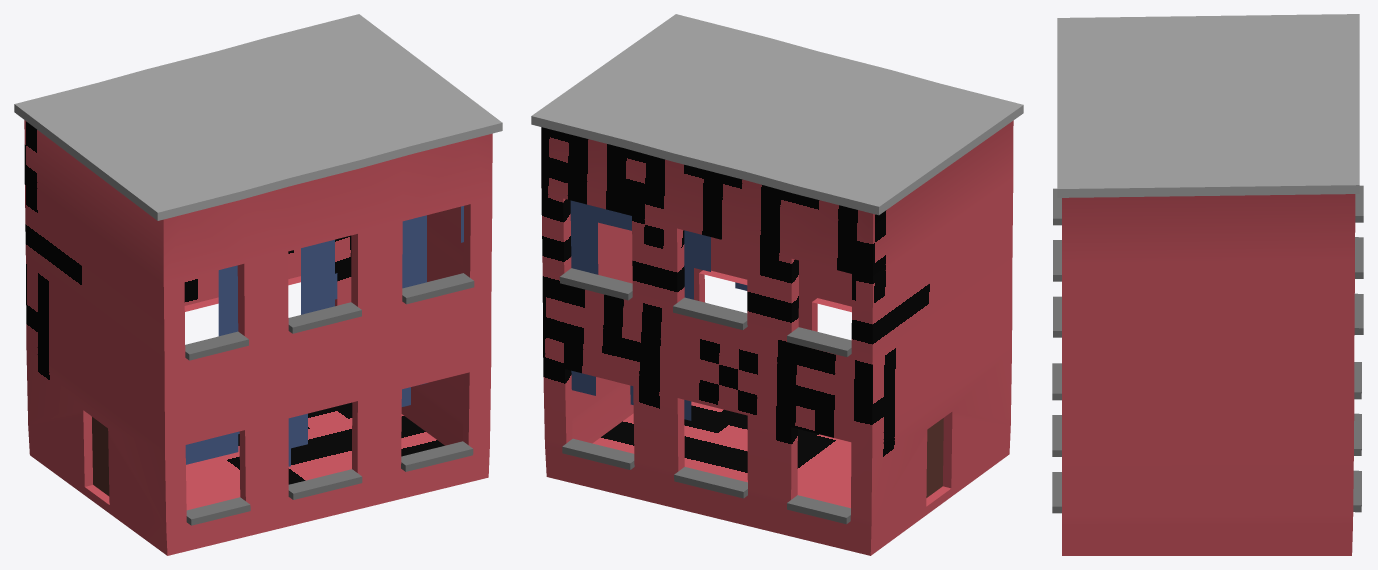
File: model_building_tall.fbx
3 renders of one model, left to right at view 1: azimuth 30°, elevation 25°; view 2: azimuth 150°, elevation 25°; view 3: azimuth 270°, elevation 25°, orthographic. The views are drawn at different scales.
Visible parts, largest first — view 1: SM_BuildingTall; view 2: SM_BuildingTall; view 3: SM_BuildingTall.
Boxes of the visible parts, x1=… form: SM_BuildingTall: x1=14, y1=14, x2=502, y2=555; SM_BuildingTall: x1=531, y1=14, x2=1023, y2=555; SM_BuildingTall: x1=1052, y1=14, x2=1363, y2=555.
Size of the model in its own units: 24.28 by 24.05 by 18.03.
5 materials, 3 textured.
